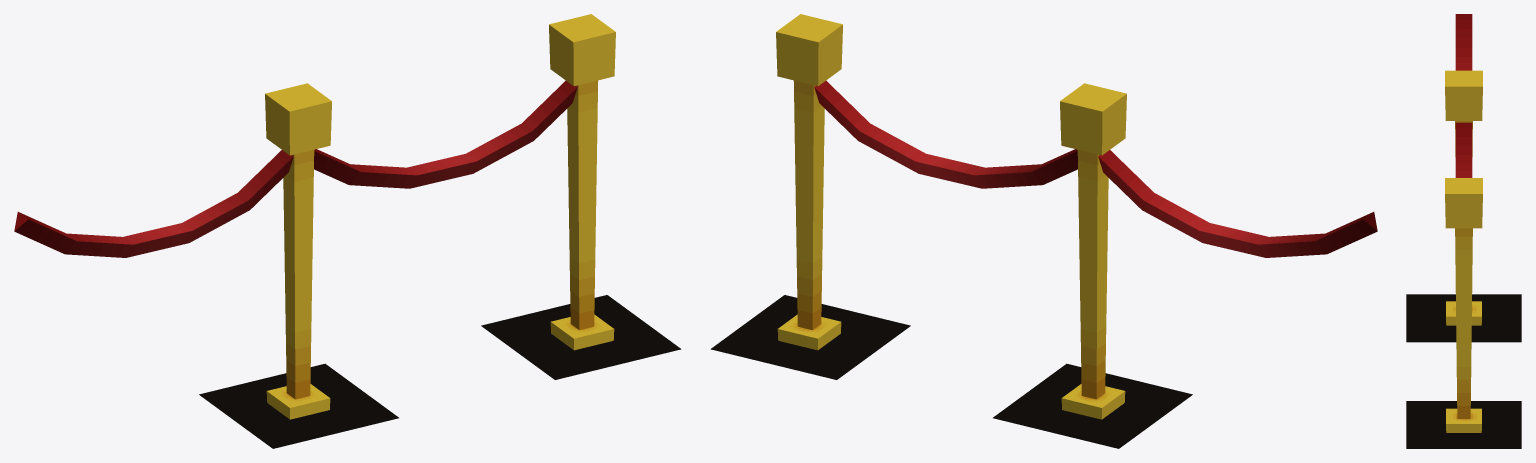
Rendered from 2x1_velvet_rope.FBX.
3 views of the same model, side by side, from view 1: azimuth 30°, elevation 25°; view 2: azimuth 150°, elevation 25°; view 3: azimuth 270°, elevation 25° (orthographic). The views are drawn at different scales.
Parts seen in each view (by area): view 1: 2x1_velvet_rope, 2x1_velvet_rope_soft_shadow; view 2: 2x1_velvet_rope, 2x1_velvet_rope_soft_shadow; view 3: 2x1_velvet_rope, 2x1_velvet_rope_soft_shadow.
Boxes of the visible parts, x1,y1,x2,y2 form: 2x1_velvet_rope: (14, 14, 615, 419); 2x1_velvet_rope_soft_shadow: (199, 295, 681, 448); 2x1_velvet_rope: (776, 14, 1377, 419); 2x1_velvet_rope_soft_shadow: (710, 295, 1192, 448); 2x1_velvet_rope: (1445, 14, 1482, 432); 2x1_velvet_rope_soft_shadow: (1406, 294, 1521, 448).
Bounding box in the file's own units: 2220 × 1050 × 454.
